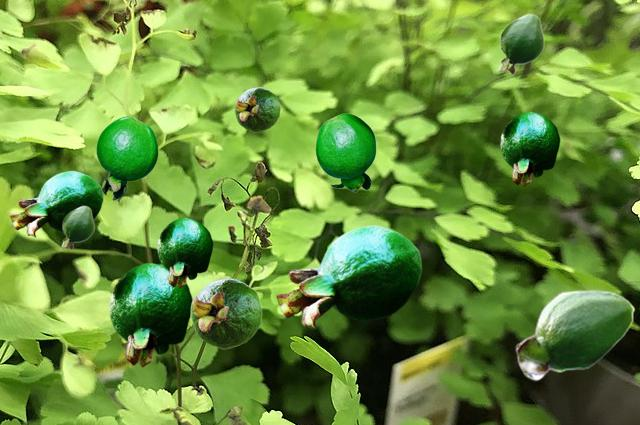guava: (276, 224, 421, 328), (515, 289, 634, 380), (109, 262, 192, 366), (10, 170, 102, 236), (96, 116, 157, 199), (190, 278, 261, 348), (315, 113, 375, 191), (500, 111, 559, 185), (157, 217, 212, 287), (498, 13, 543, 74), (234, 87, 279, 131), (61, 205, 93, 249)
